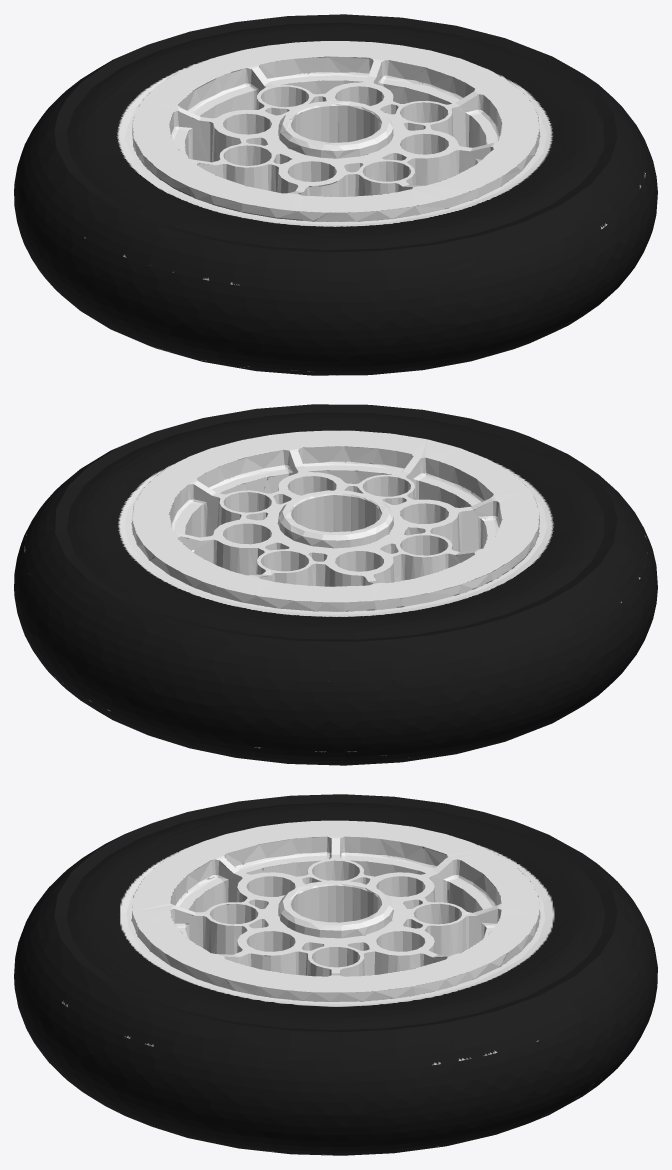
Rendered from wheel_h.dae.
The picture shows the model from 3 angles, top to bottom: view 1: azimuth 30°, elevation 25°; view 2: azimuth 150°, elevation 25°; view 3: azimuth 270°, elevation 25°; orthographic projection.
Parts seen in each view (by area): view 1: wheel_H1; view 2: wheel_H1; view 3: wheel_H1.
Part boxes in pixels (<box>): wheel_H1: <box>14,14,657,375</box>; wheel_H1: <box>14,404,657,765</box>; wheel_H1: <box>14,794,657,1155</box>.
Size of the model in its own units: 0.158 by 0.0517 by 0.158.
1 material, 1 textured.
